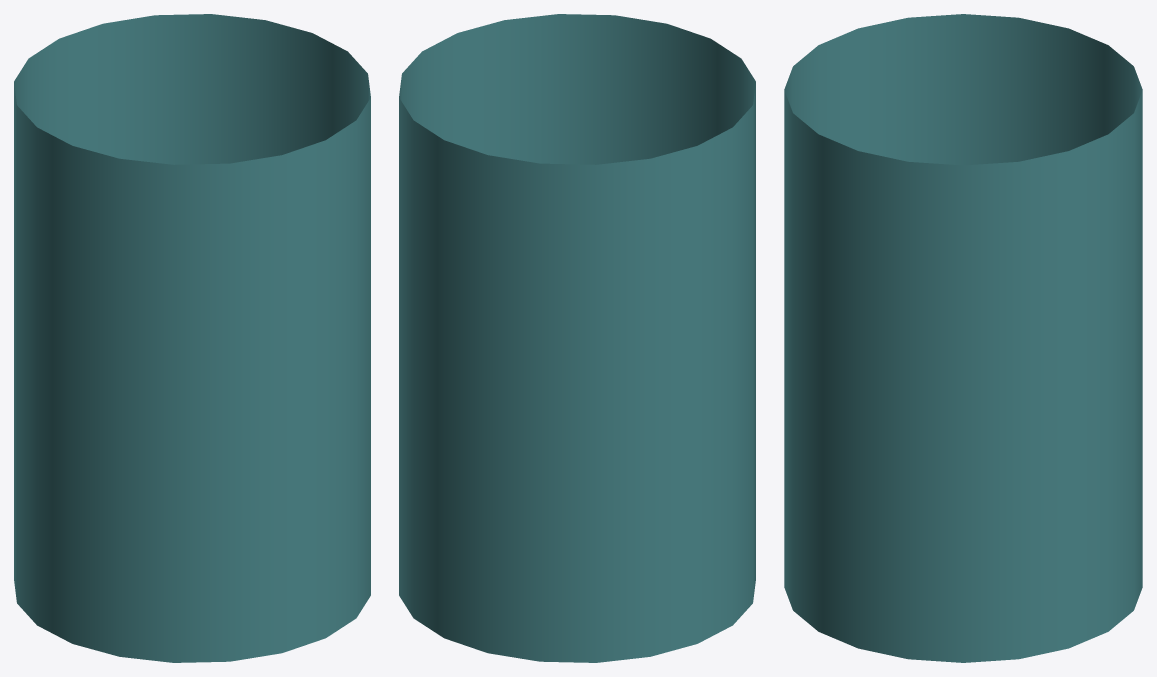
File: SM_Pipes_StraightDown.fbx
The picture shows the model from 3 angles, left to right: view 1: azimuth 30°, elevation 25°; view 2: azimuth 150°, elevation 25°; view 3: azimuth 270°, elevation 25°; orthographic projection.
Parts seen in each view (by area): view 1: SM_Pipes_StraightDown; view 2: SM_Pipes_StraightDown; view 3: SM_Pipes_StraightDown.
Boxes of the visible parts, <box> form: SM_Pipes_StraightDown: <box>14,14,370,662</box>; SM_Pipes_StraightDown: <box>399,14,755,662</box>; SM_Pipes_StraightDown: <box>784,14,1142,662</box>.
Bounding box in the file's own units: 327 × 500 × 327.
